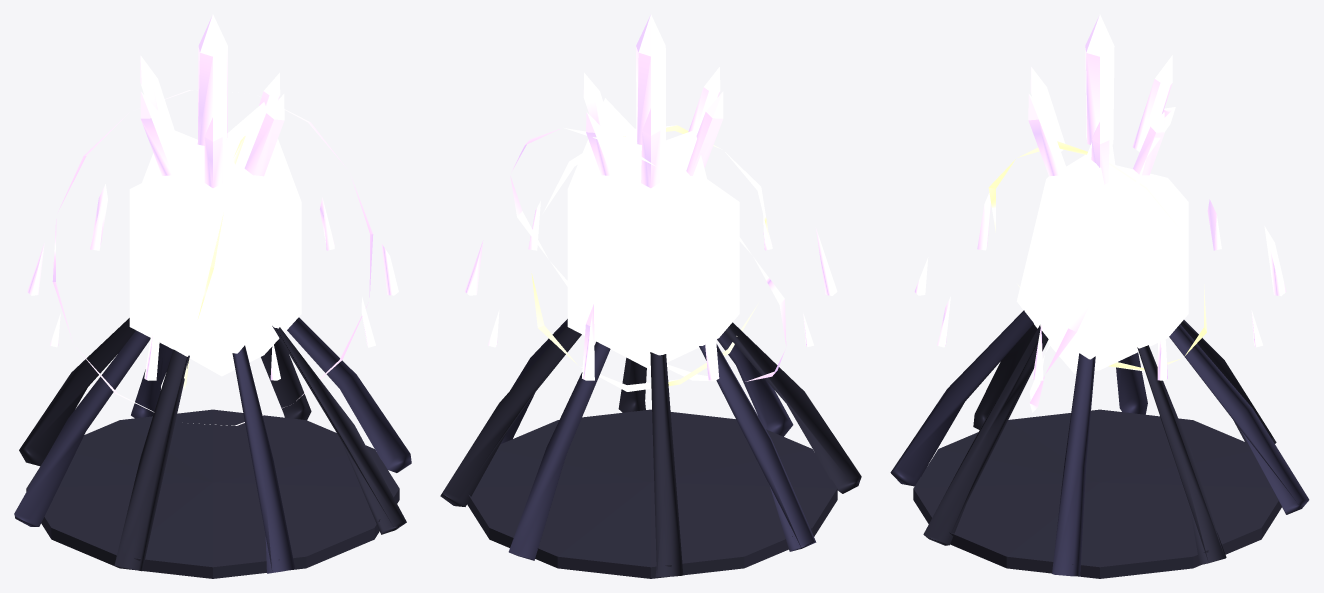
Rendered from lumen_heart_lod1.glb.
3 renders of one model, left to right at view 1: azimuth 30°, elevation 25°; view 2: azimuth 150°, elevation 25°; view 3: azimuth 270°, elevation 25°, orthographic.
Parts seen in each view (by area): view 1: enemy.lumen_heart; view 2: enemy.lumen_heart; view 3: enemy.lumen_heart.
Boxes of the visible parts, left/top/right/bottom form: enemy.lumen_heart: left=14, top=14, right=411, bottom=578; enemy.lumen_heart: left=440, top=14, right=861, bottom=578; enemy.lumen_heart: left=890, top=14, right=1309, bottom=578.
Bounding box in the file's own units: 3.47 × 4.5 × 3.47.
